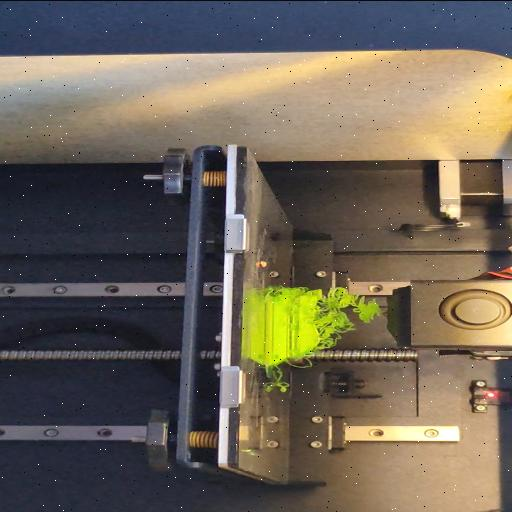spaghetti: (316, 284, 380, 350), (272, 365, 290, 394), (286, 353, 316, 369), (266, 284, 279, 296)
